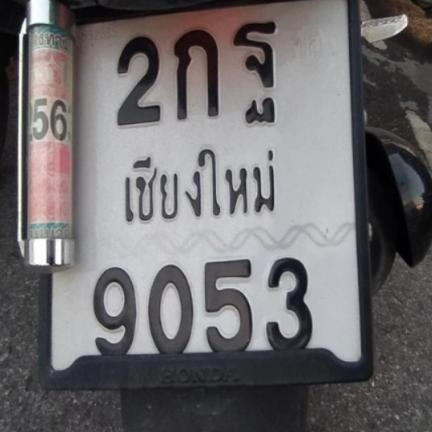0: (147, 260, 195, 356)
2: (104, 29, 165, 127)
3: (263, 254, 325, 352)
5: (199, 259, 254, 355)
9: (87, 266, 140, 359)
A01: (167, 27, 223, 120)
A16: (227, 18, 289, 127)
CMI: (104, 140, 289, 225)
